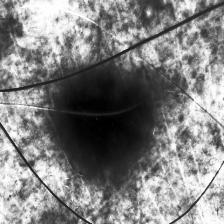Benign Marking or Mole: (58, 80, 152, 163)
